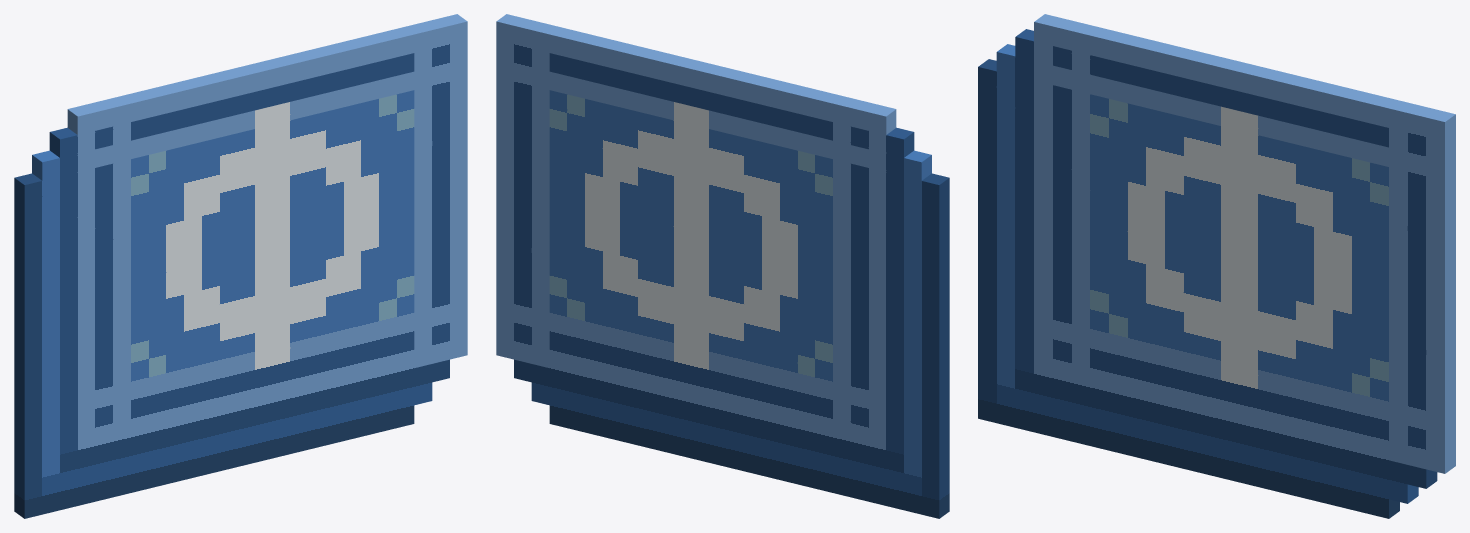
The picture shows the model from 3 angles, left to right: view 1: azimuth 30°, elevation 25°; view 2: azimuth 150°, elevation 25°; view 3: azimuth 330°, elevation 25°; orthographic projection. The views are drawn at different scales.
Parts seen in each view (by area): view 1: Marks01-Mesh; view 2: Marks01-Mesh; view 3: Marks01-Mesh.
Part boxes in pixels (<box>): Marks01-Mesh: <box>14,14,467,518</box>; Marks01-Mesh: <box>496,14,949,518</box>; Marks01-Mesh: <box>978,14,1455,518</box>.
Bounding box in the file's own units: 25 × 21 × 1.
1 material, 1 textured.
